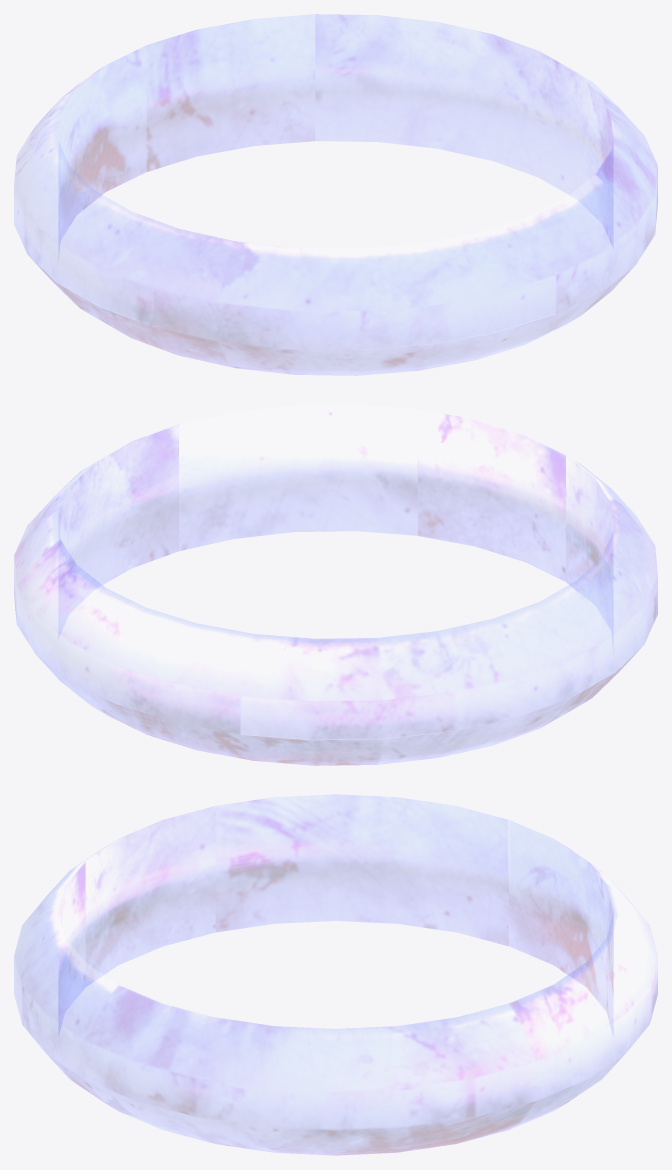
File: ThickRing.glb
The picture shows the model from 3 angles, top to bottom: view 1: azimuth 30°, elevation 25°; view 2: azimuth 150°, elevation 25°; view 3: azimuth 270°, elevation 25°; orthographic projection.
Visible parts, largest first — view 1: 环体.005; view 2: 环体.005; view 3: 环体.005.
Part boxes in pixels (bbox=[...]): 环体.005: bbox=[14, 14, 657, 375]; 环体.005: bbox=[14, 404, 657, 765]; 环体.005: bbox=[14, 794, 657, 1155].
Size of what is drawn, in the model's own units: 5.09 by 1.1 by 5.09.
Materials: 1 (1 with a texture image).
